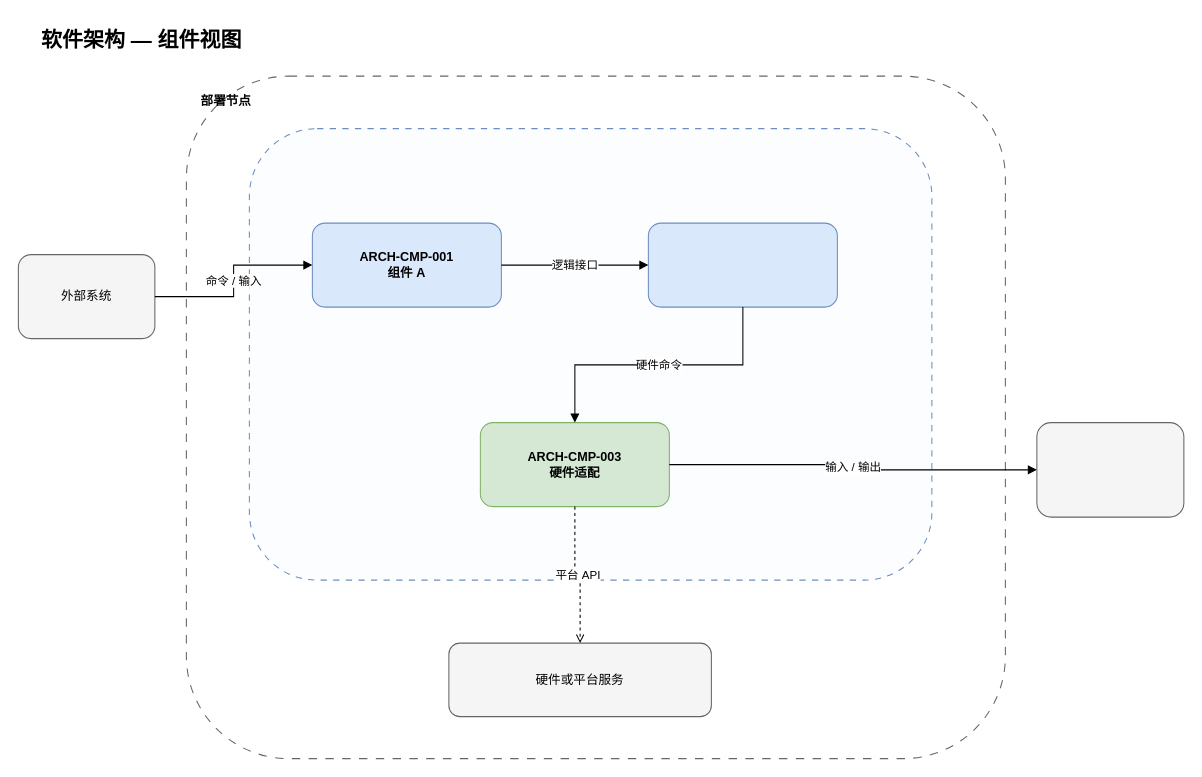
The diagram is 1202 pixels wide and 777 high, and some of its shapes have lost their labels. The box of each missing label's shape, as (x1, y1, x2, y2) in pixels:
ARCH-CMP-002 组件 B: (647, 222, 837, 307)
应用软件边界: (248, 128, 932, 580)
目标硬件: (1036, 422, 1184, 517)
